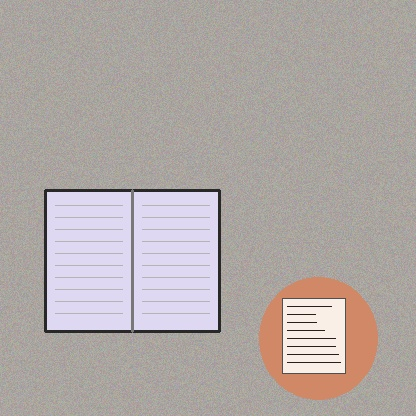book: (45, 190, 219, 331)
exam_chit: (282, 298, 345, 373)
